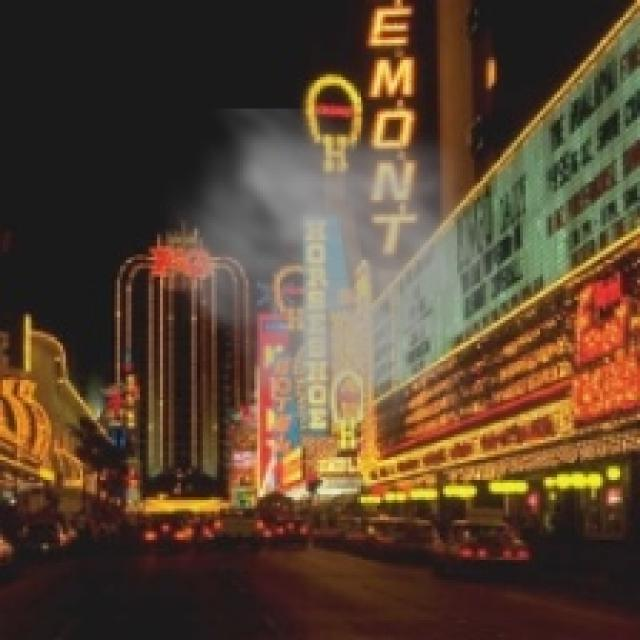smoke: (151, 109, 523, 472)
